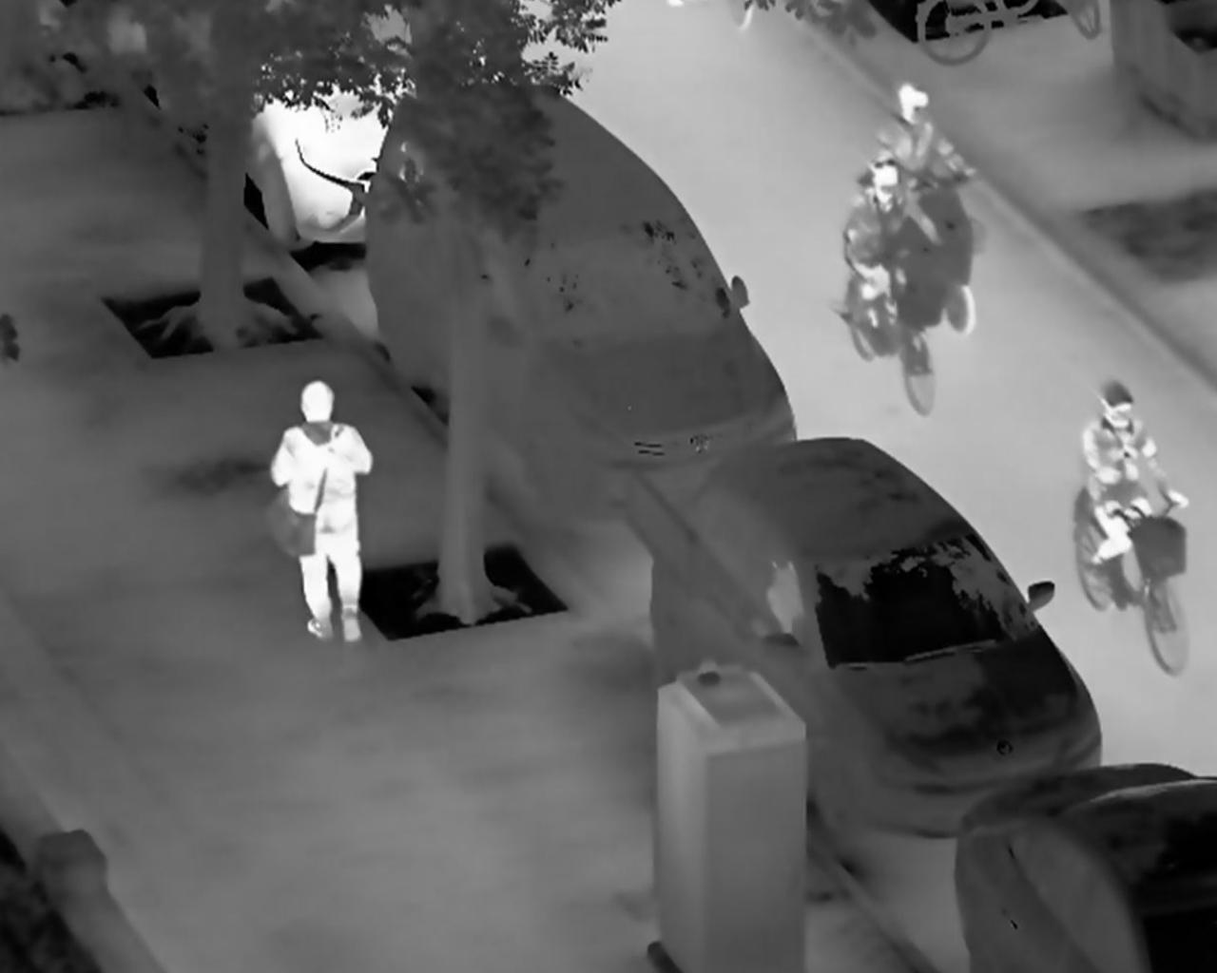person: (263, 378, 376, 641), (1079, 380, 1192, 568), (843, 159, 946, 332), (874, 85, 975, 244)
